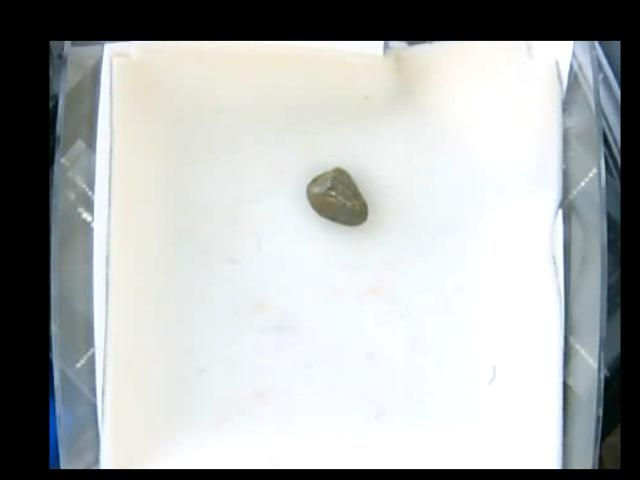Pebble: (305, 164, 369, 228)
